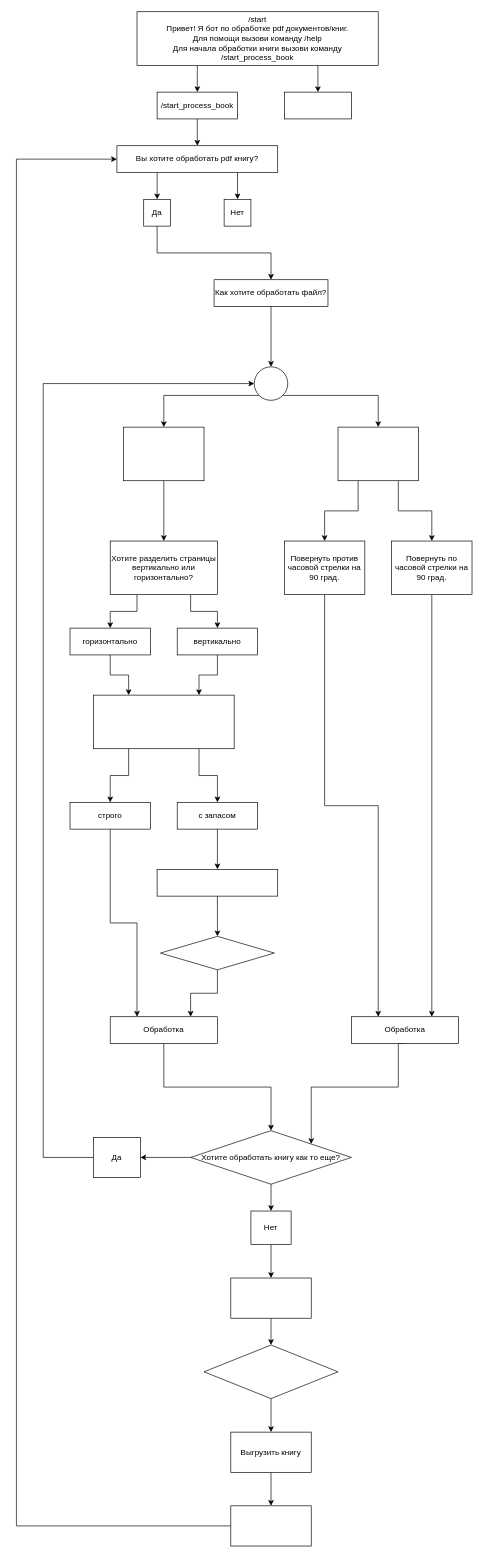
Some shapes in this 484 by 1558 pixel diagram are drawn without their labels. The shapes that lost their labels are listed below. From the top down, each one's box as (x1, y1, x2, y2) in pixels, then its label:
(284, 91, 351, 119): /help
(123, 426, 204, 481): Разделить страницы пополам
(337, 426, 418, 481): Повернуть страницы
(93, 694, 234, 749): Хотите разделить страницы строго пополам или с запасом ?
(156, 869, 278, 896): Введите размер запаса в процентах 1-100%
(160, 936, 274, 970): <Введено число>
(230, 1277, 311, 1318): Загрузите книгу
(203, 1344, 338, 1399): Обработка книги
(230, 1505, 311, 1546): В начало
